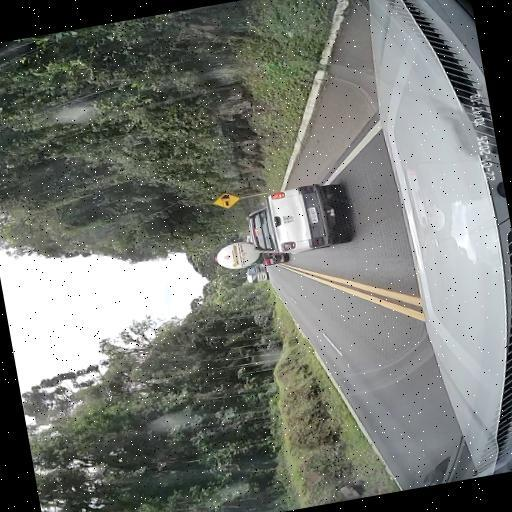A-27: (210, 190, 241, 210)
